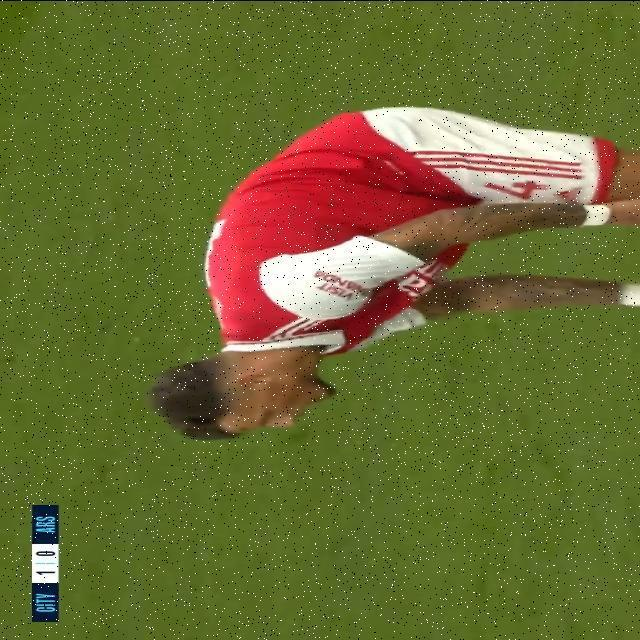player: (111, 67, 640, 470)
